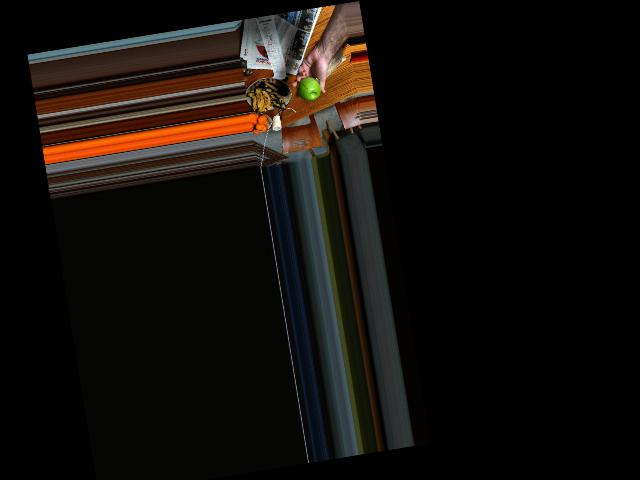apple: (294, 73, 323, 105)
